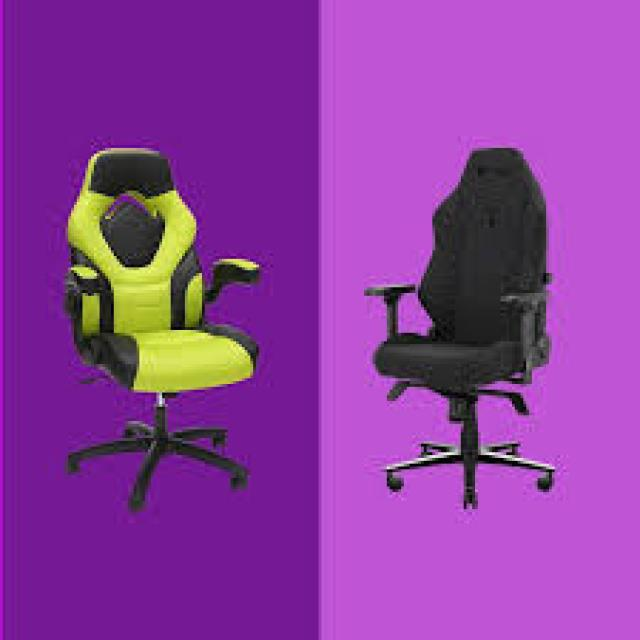chair: (322, 110, 634, 570), (26, 106, 296, 572)
